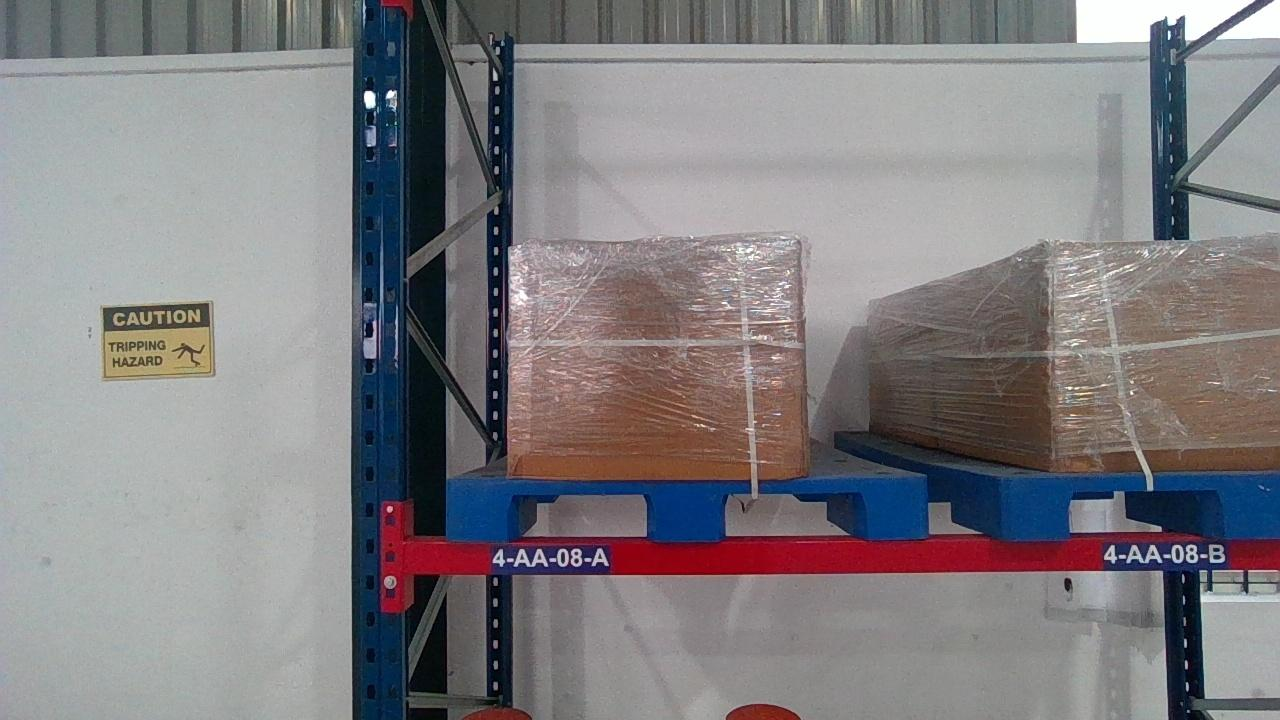h_rack: (406, 539, 1276, 574)
small_pallet: (441, 479, 931, 537), (1000, 472, 1277, 535)
